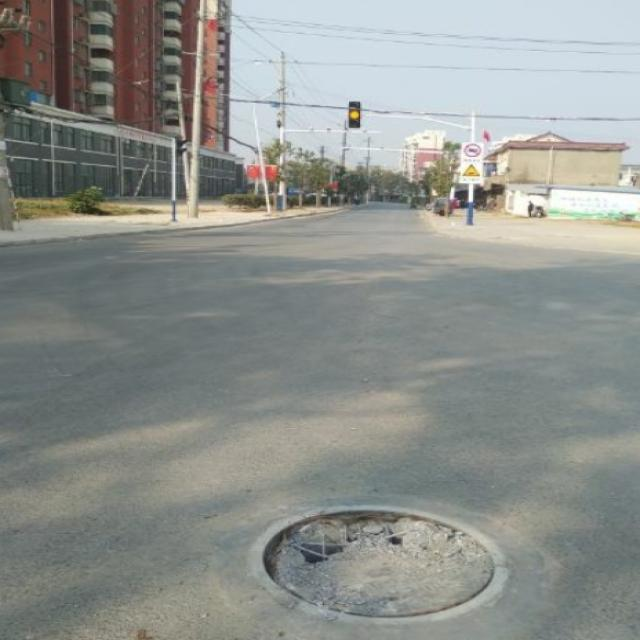Broken: (227, 493, 541, 640)
